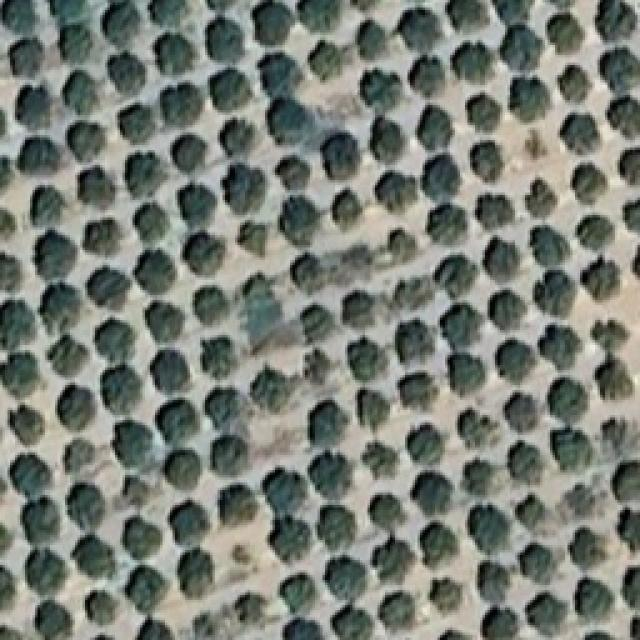Tree: (266, 97, 314, 145), (222, 163, 267, 214), (263, 467, 309, 515), (34, 230, 78, 280), (39, 283, 82, 334), (308, 452, 352, 500), (468, 505, 511, 554), (500, 24, 543, 72), (440, 302, 483, 350), (279, 196, 320, 246), (538, 324, 582, 370), (534, 270, 577, 317), (269, 515, 312, 562), (101, 364, 141, 414), (258, 54, 303, 98), (398, 8, 442, 53), (25, 549, 68, 595), (371, 536, 414, 582), (125, 565, 166, 613), (155, 400, 199, 444), (183, 231, 226, 276), (87, 267, 132, 310), (421, 154, 461, 202), (56, 384, 96, 432), (66, 483, 105, 532), (134, 250, 177, 294), (434, 255, 478, 298), (550, 428, 593, 472), (71, 535, 115, 578), (599, 48, 640, 94), (169, 500, 210, 546), (308, 400, 348, 447), (101, 0, 140, 48), (114, 420, 153, 468), (21, 496, 60, 544), (160, 83, 203, 126), (209, 69, 252, 112), (525, 593, 568, 636), (324, 557, 367, 600), (253, 0, 294, 45), (360, 69, 401, 114), (94, 317, 135, 362), (10, 454, 51, 499), (250, 367, 290, 413), (321, 133, 360, 180), (509, 77, 550, 121), (412, 471, 453, 515), (0, 300, 36, 350), (150, 349, 190, 394), (348, 336, 388, 381), (178, 548, 214, 598), (548, 378, 588, 423), (495, 339, 535, 384), (125, 152, 164, 198), (0, 351, 39, 397), (154, 33, 195, 76), (427, 203, 468, 246), (375, 172, 418, 213), (178, 184, 217, 229), (581, 256, 620, 301), (318, 505, 357, 550), (206, 16, 244, 62), (420, 522, 458, 568), (123, 517, 163, 560), (395, 319, 434, 363), (482, 237, 520, 282), (595, 0, 636, 41), (48, 335, 89, 376), (560, 113, 600, 155), (218, 484, 258, 526), (108, 52, 147, 95), (575, 578, 614, 621), (569, 526, 607, 570), (447, 353, 485, 397), (452, 43, 493, 83), (592, 361, 634, 400), (77, 166, 115, 209), (407, 55, 445, 98), (417, 105, 453, 150), (530, 226, 570, 266), (458, 408, 498, 448), (145, 302, 184, 343), (370, 116, 404, 163), (546, 13, 584, 54), (279, 573, 317, 614), (15, 85, 50, 129), (63, 70, 98, 114), (67, 121, 105, 161), (117, 104, 155, 144), (132, 203, 170, 243), (489, 290, 527, 330), (398, 372, 438, 410), (164, 450, 202, 490), (406, 424, 444, 464), (18, 138, 59, 175), (205, 388, 241, 430), (508, 441, 543, 484), (212, 435, 248, 476), (606, 95, 640, 138), (201, 336, 235, 379), (572, 164, 608, 204), (37, 600, 73, 640), (308, 40, 343, 81), (519, 543, 554, 584), (358, 389, 391, 432), (83, 219, 122, 255), (475, 194, 514, 230), (193, 286, 229, 325), (379, 591, 415, 630), (9, 405, 44, 445), (333, 605, 373, 640), (470, 142, 504, 183), (290, 253, 324, 294), (298, 0, 341, 32), (446, 0, 489, 32), (370, 494, 405, 533), (59, 23, 93, 63), (9, 37, 43, 77), (468, 92, 502, 132), (30, 186, 64, 226), (504, 393, 538, 433), (393, 277, 434, 310), (589, 320, 630, 353), (363, 441, 399, 478), (219, 119, 254, 157), (172, 134, 207, 172), (576, 215, 614, 250), (300, 304, 334, 343), (558, 65, 592, 103), (525, 179, 558, 218), (332, 189, 363, 230), (478, 561, 509, 602), (343, 290, 376, 328), (275, 155, 310, 190), (356, 20, 386, 60), (483, 606, 518, 640), (611, 461, 640, 501), (2, 0, 37, 33), (429, 578, 462, 613), (463, 459, 493, 497), (63, 439, 96, 473), (243, 273, 279, 304), (515, 494, 545, 530), (85, 591, 116, 625), (238, 222, 268, 257), (388, 229, 418, 264), (234, 593, 267, 624), (564, 484, 595, 517), (493, 0, 533, 25), (617, 508, 640, 551), (149, 0, 187, 26), (602, 417, 628, 455), (304, 349, 332, 384), (282, 617, 322, 640), (342, 244, 373, 271), (48, 0, 86, 22), (0, 253, 21, 292), (123, 475, 149, 506), (137, 618, 173, 640), (619, 148, 640, 185), (622, 566, 640, 608), (524, 129, 548, 159), (0, 567, 15, 610), (193, 612, 216, 640), (622, 199, 640, 232), (0, 207, 16, 237), (231, 544, 251, 564), (0, 156, 12, 189), (439, 629, 472, 640), (0, 523, 12, 553), (0, 625, 22, 640), (350, 1, 379, 12), (631, 245, 640, 278), (206, 1, 235, 11), (584, 631, 614, 640), (630, 616, 640, 640), (0, 109, 8, 137), (93, 634, 114, 640)
